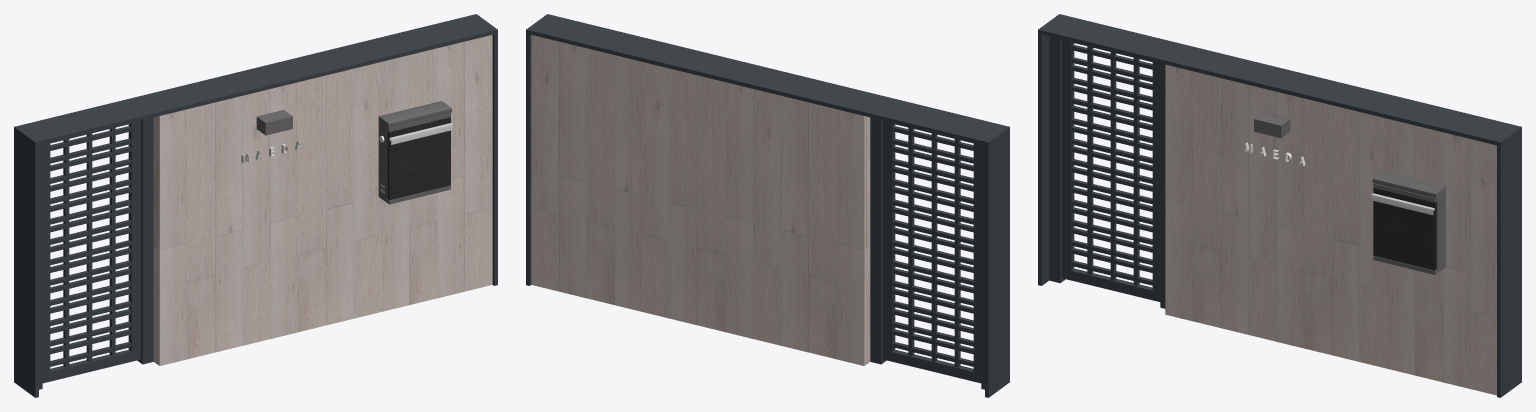
Rendered from ab12-m_matdarkgrey.fbx.
3 renders of one model, left to right at view 1: azimuth 30°, elevation 25°; view 2: azimuth 150°, elevation 25°; view 3: azimuth 330°, elevation 25°, orthographic.
Parts seen in each view (by area): view 1: ab12-m_mat-d-grey_pinewhite; view 2: ab12-m_mat-d-grey_pinewhite; view 3: ab12-m_mat-d-grey_pinewhite.
Part boxes in pixels (x1=…): ab12-m_mat-d-grey_pinewhite: x1=14, y1=14, x2=497, y2=397; ab12-m_mat-d-grey_pinewhite: x1=526, y1=14, x2=1009, y2=397; ab12-m_mat-d-grey_pinewhite: x1=1038, y1=14, x2=1521, y2=397.
Bounding box in the file's own units: 250 × 132 × 30.61.
12 materials, 3 textured.
